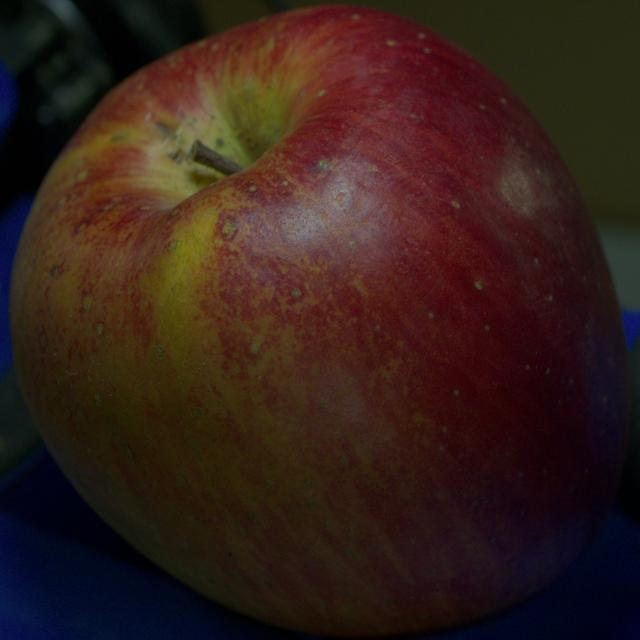apple: (11, 6, 629, 636)
pest: (170, 147, 186, 163)
scratch: (151, 115, 185, 143)
